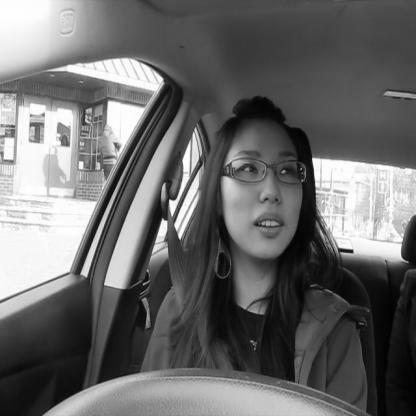seatbelt: (159, 87, 317, 387)
